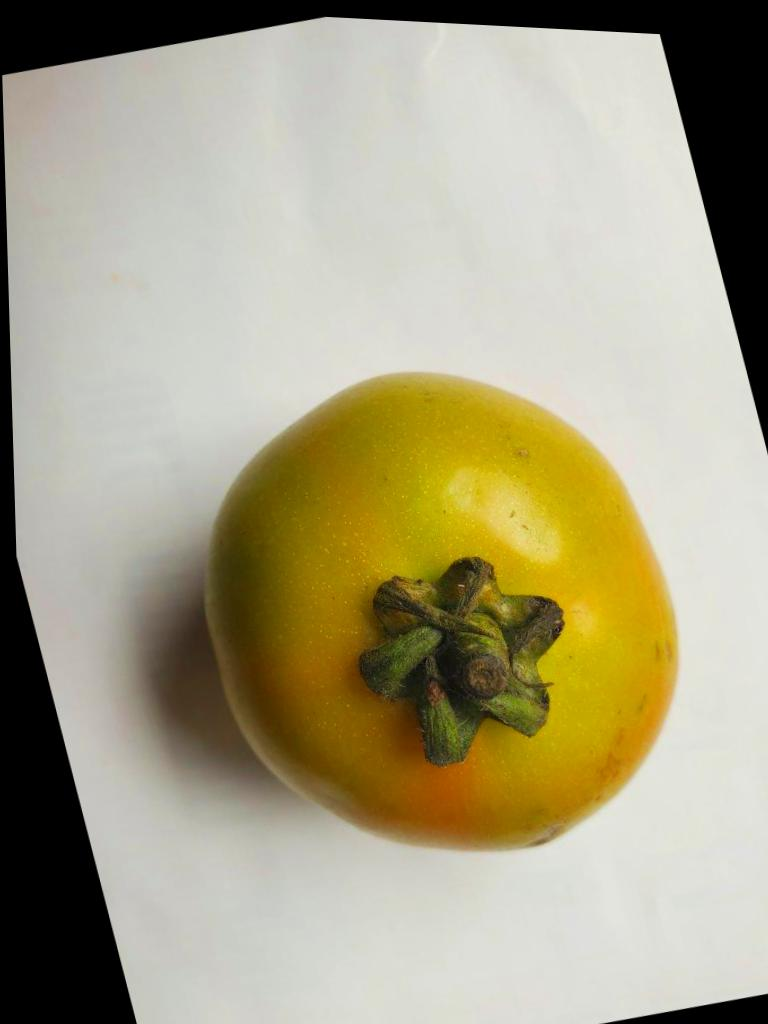tomato: (206, 374, 677, 850)
